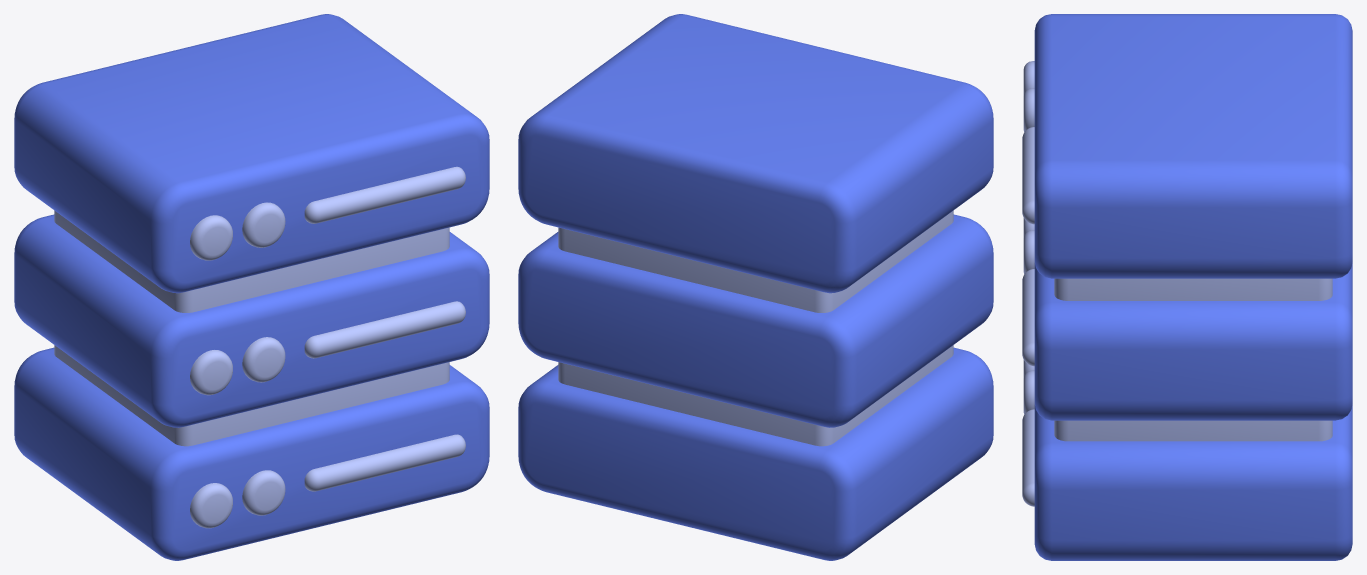
Rendered from Database.glb.
3 renders of one model, left to right at view 1: azimuth 30°, elevation 25°; view 2: azimuth 150°, elevation 25°; view 3: azimuth 270°, elevation 25°, orthographic. The views are drawn at different scales.
Parts seen in each view (by area): view 1: Cube, Cube.003, Cube.001, Cube.002, Cube.004, Cylinder.006, Cylinder.002, Cylinder.005, Cylinder.003, Cylinder.001, Cylinder.004; view 2: Cube, Cube.003, Cube.001, Cube.002, Cube.004; view 3: Cube, Cube.001, Cube.003, Cube.002, Cube.004, Cylinder.006, Cylinder.002, Cylinder.005, Cylinder.001, Cylinder.004, Cylinder.003.
Part boxes in pixels (x1,y1,x2,y2): Cube: (14, 14, 489, 293); Cube.003: (14, 347, 489, 560); Cube.001: (14, 214, 489, 427); Cube.002: (54, 210, 449, 312); Cube.004: (54, 345, 449, 446); Cylinder.006: (304, 434, 465, 491); Cylinder.002: (304, 166, 465, 223); Cylinder.005: (304, 301, 465, 358); Cylinder.003: (190, 470, 285, 528); Cylinder.001: (190, 202, 285, 260); Cylinder.004: (190, 337, 285, 395); Cube: (518, 14, 993, 293); Cube.003: (518, 347, 993, 560); Cube.001: (518, 214, 993, 427); Cube.002: (558, 210, 953, 312); Cube.004: (558, 345, 953, 446); Cube: (1034, 14, 1352, 278); Cube.001: (1034, 262, 1352, 420); Cube.003: (1034, 404, 1352, 560); Cube.002: (1054, 278, 1332, 300); Cube.004: (1054, 420, 1332, 441); Cylinder.006: (1022, 409, 1034, 506); Cylinder.002: (1022, 127, 1034, 224); Cylinder.005: (1022, 269, 1034, 366); Cylinder.001: (1023, 61, 1034, 131); Cylinder.004: (1023, 218, 1034, 273); Cylinder.003: (1023, 360, 1034, 414).
Size of the model in its own units: 2.86 by 3.06 by 2.3.
